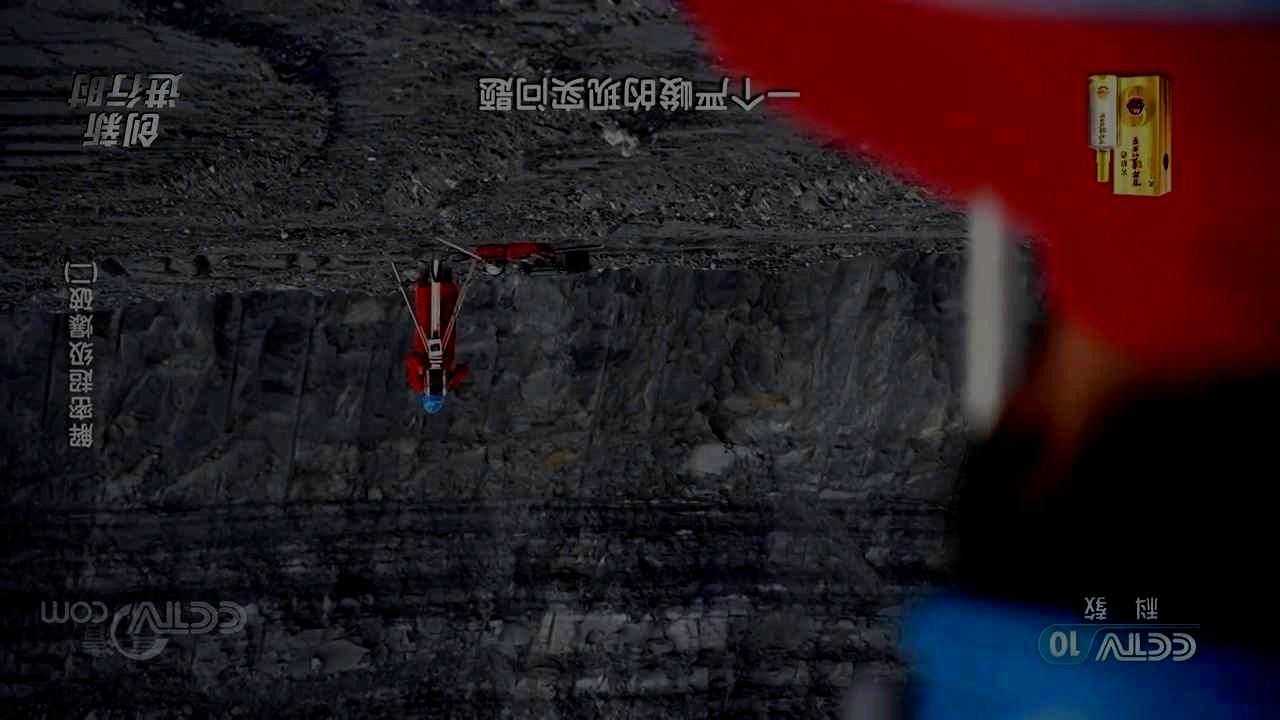helmet: (894, 314, 1280, 720), (420, 382, 444, 414)
